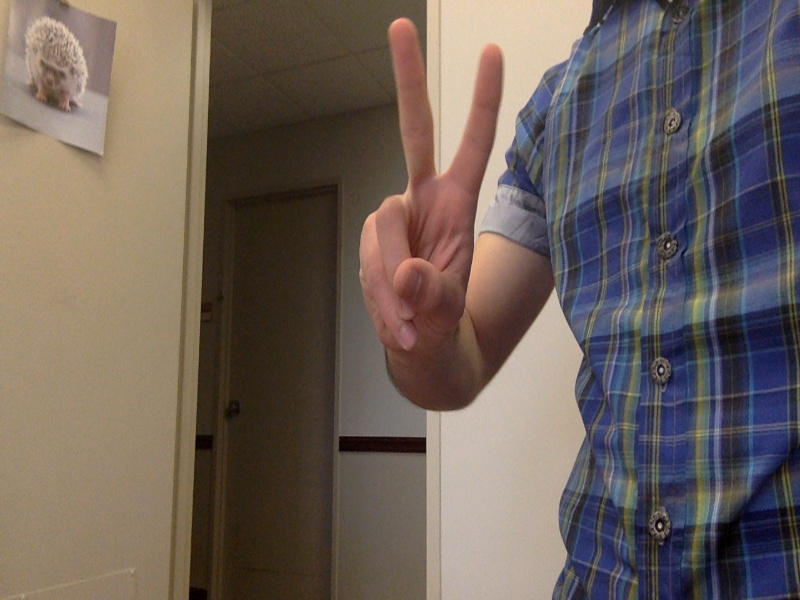2-hand: (359, 17, 506, 363)
